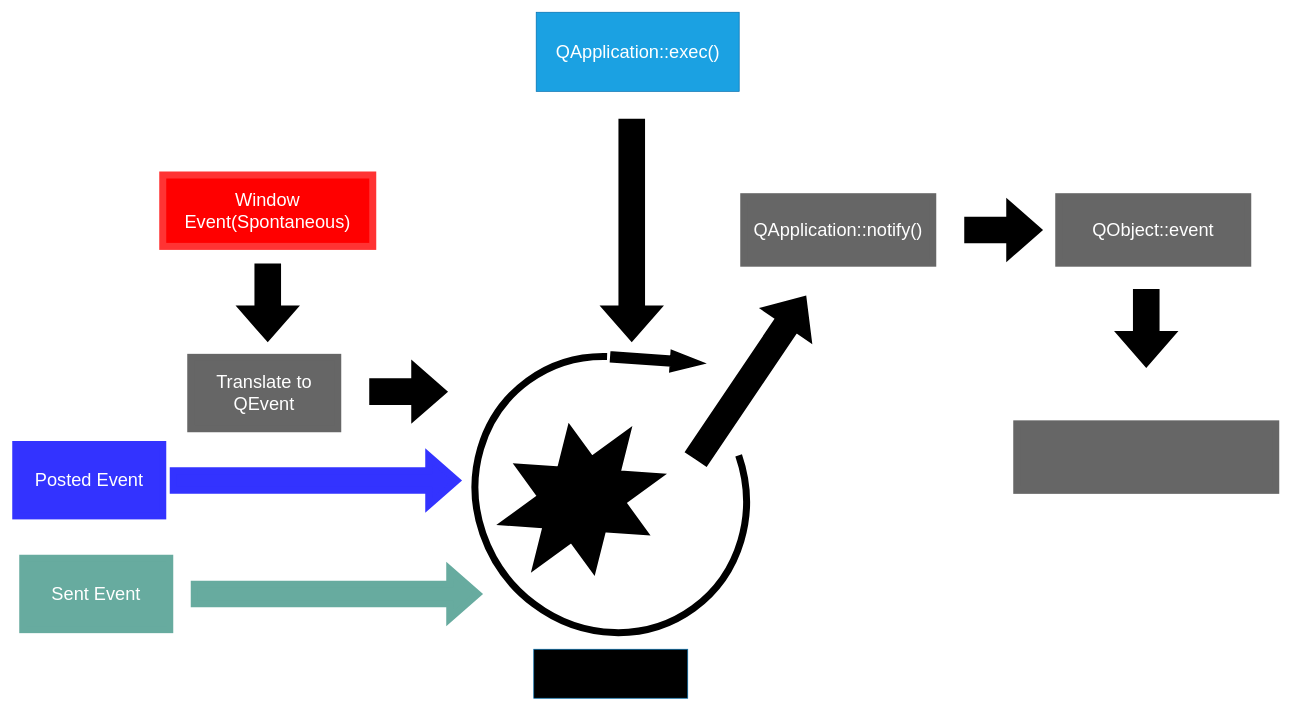
This 1291x711 diagram has some shape labels left out. The centre of each missing label's shape, as x and y in pixels:
"Event" goes at point (581, 499).
"Event Loop" goes at point (610, 673).
"QWidget::mousePressEvent()" goes at point (1146, 456).
